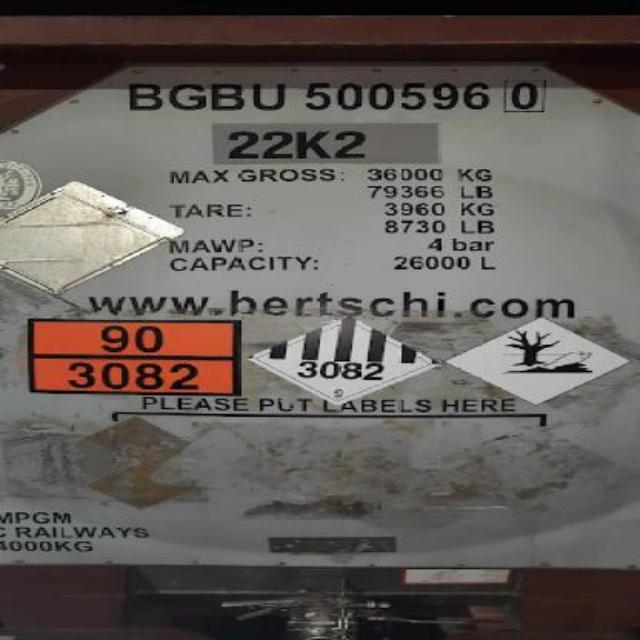0: (506, 79, 544, 111), (336, 82, 366, 110), (366, 82, 396, 110)
5: (304, 82, 334, 110), (398, 82, 428, 110)
6: (460, 82, 492, 110)
9: (428, 80, 460, 110)
B: (126, 80, 166, 110), (208, 82, 248, 110)
G: (164, 80, 210, 112)
U: (248, 82, 288, 110)
